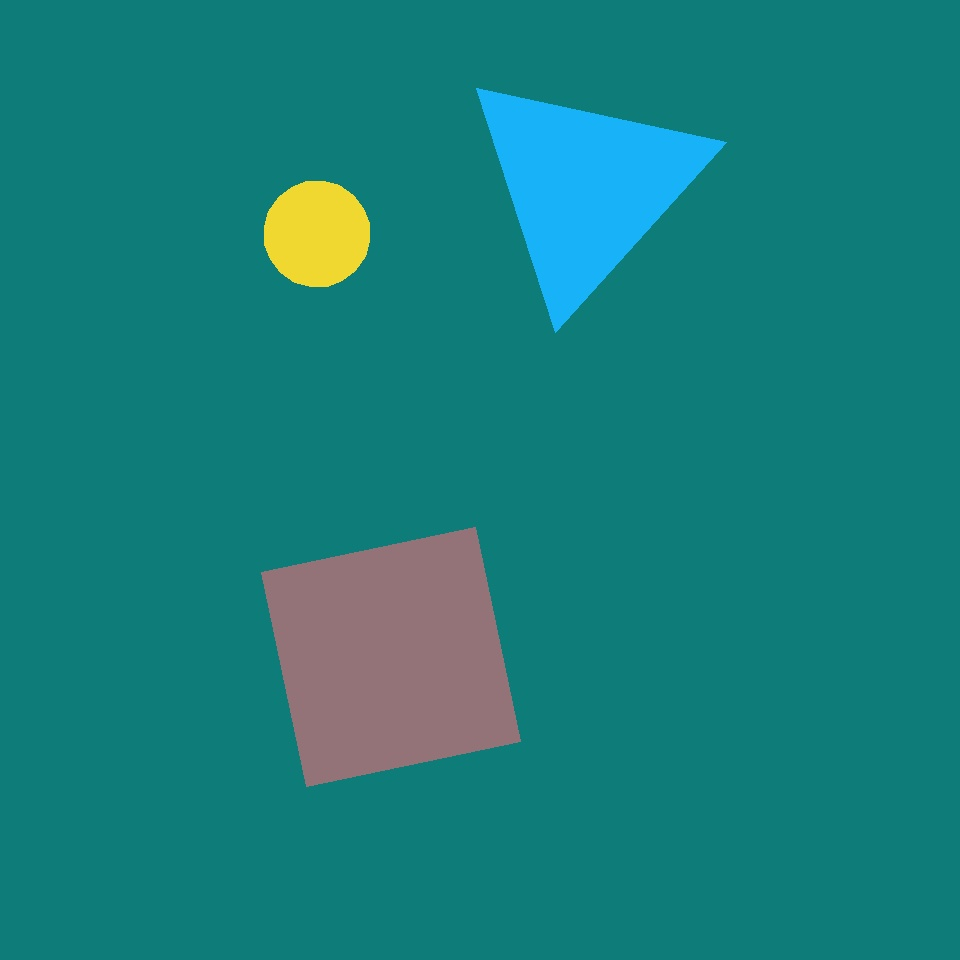circle: (461, 66, 711, 310), (99, 570, 224, 708)
square: (381, 360, 667, 646), (262, 528, 520, 786), (648, 233, 892, 477)
triangle: (312, 554, 606, 848), (220, 316, 502, 598), (715, 648, 905, 838), (264, 182, 370, 286)
